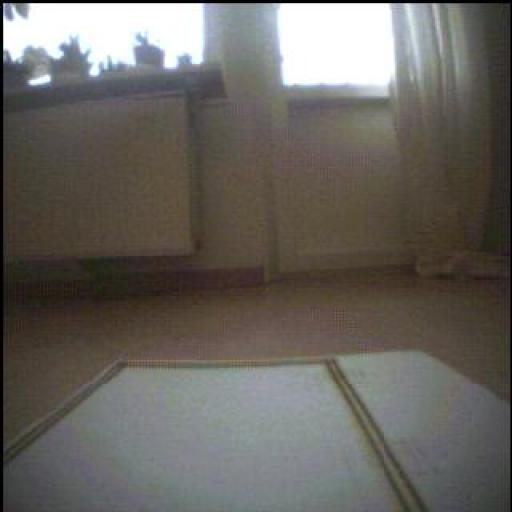Pad: (5, 356, 432, 512)
